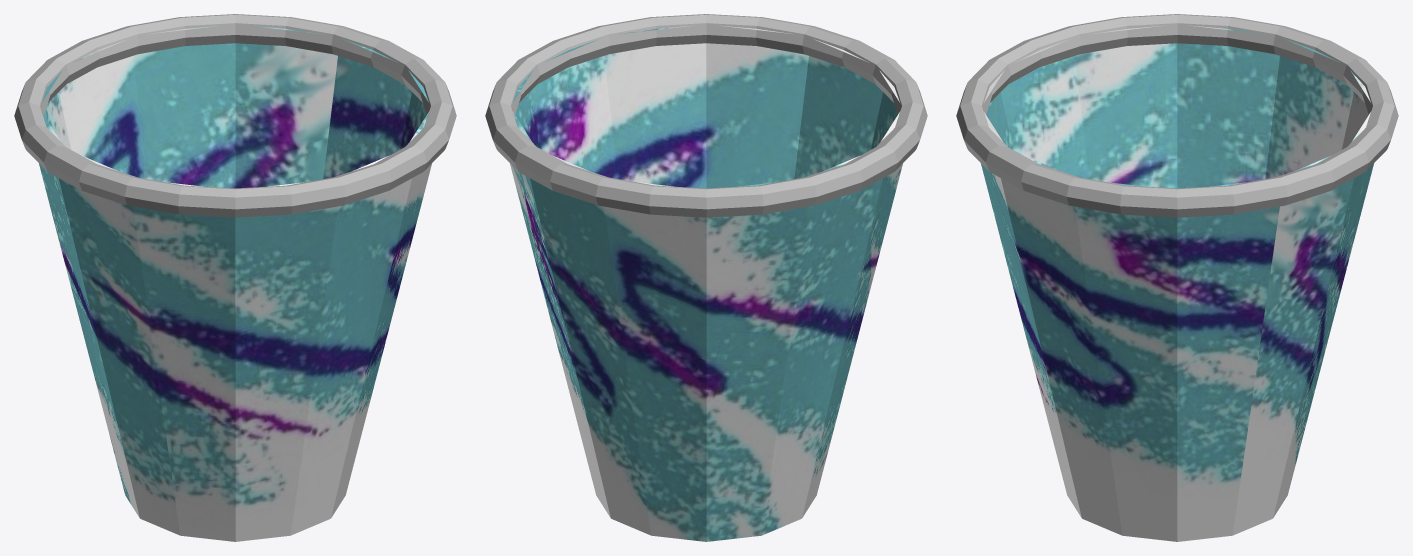
File: paper-cup (1).fbx
3 renders of one model, left to right at view 1: azimuth 30°, elevation 25°; view 2: azimuth 150°, elevation 25°; view 3: azimuth 270°, elevation 25°, orthographic.
Visible parts, largest first — view 1: Cylinder, Cylinder.001; view 2: Cylinder, Cylinder.001; view 3: Cylinder, Cylinder.001.
Boxes of the visible parts, box(x1,y1,x2,y2) form: Cylinder: box(39, 25, 431, 541); Cylinder.001: box(14, 14, 456, 217); Cylinder: box(510, 25, 902, 541); Cylinder.001: box(485, 14, 927, 217); Cylinder: box(981, 25, 1373, 541); Cylinder.001: box(956, 14, 1398, 217).
Size of the model in its own units: 212 by 208 by 212.
